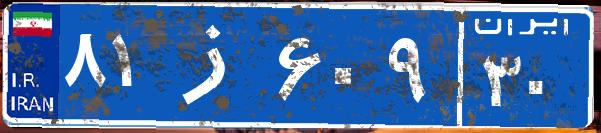0: (330, 28, 385, 110), (525, 38, 570, 115)
1: (110, 28, 158, 105)
3: (475, 38, 525, 113)
6: (273, 28, 330, 110)
8: (57, 26, 110, 107)
9: (385, 28, 445, 110)
ز: (158, 15, 273, 115)
